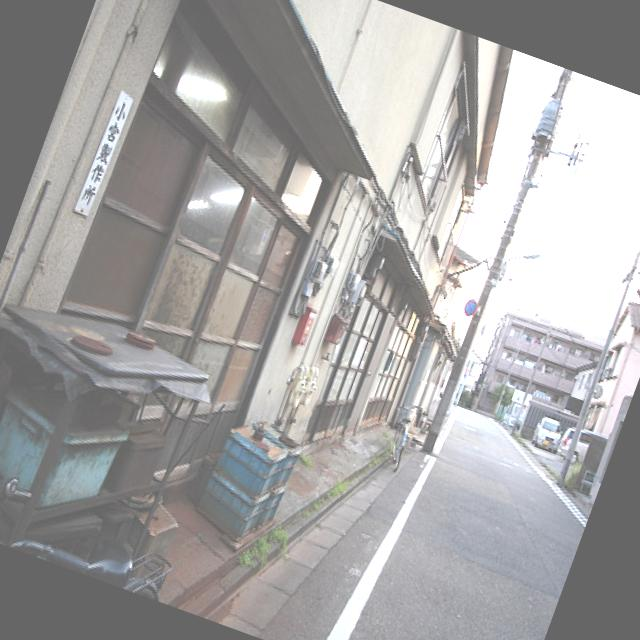Vehicle: (530, 416, 567, 456), (569, 428, 597, 467), (556, 426, 580, 459)
